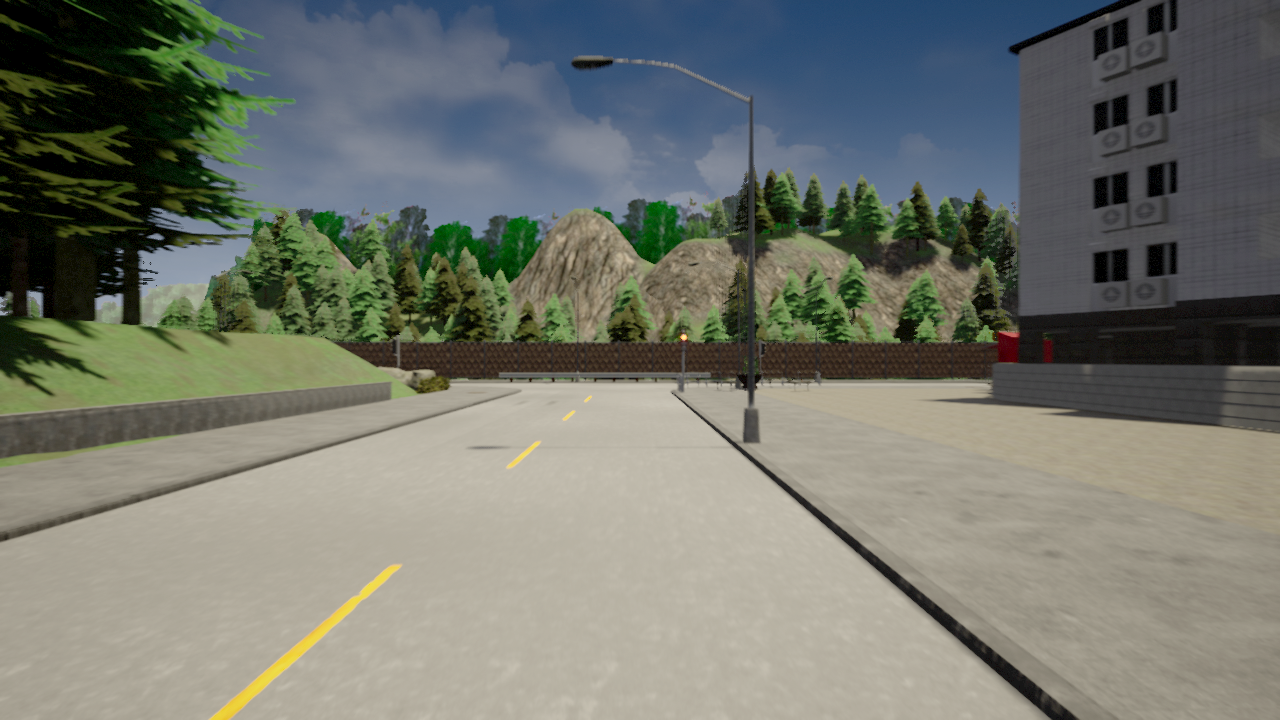red: (680, 332, 689, 353)
